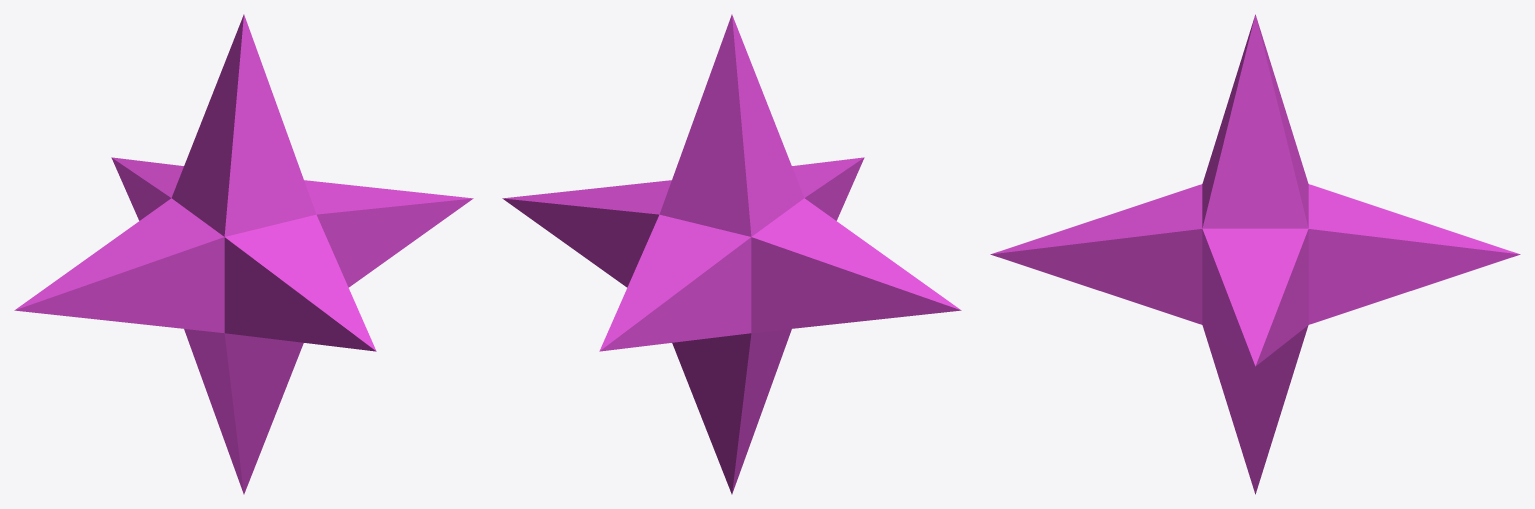
The model's file is Star.gltf.
The picture shows the model from 3 angles, left to right: view 1: azimuth 30°, elevation 25°; view 2: azimuth 150°, elevation 25°; view 3: azimuth 270°, elevation 25°; orthographic projection.
Visible parts, largest first — view 1: star; view 2: star; view 3: star.
Boxes of the visible parts, x1,y1,x2,y2 form: star: (14,14,473,494); star: (502,14,961,494); star: (990,14,1520,494).
Bounding box in the file's own units: 2 × 2 × 2.
